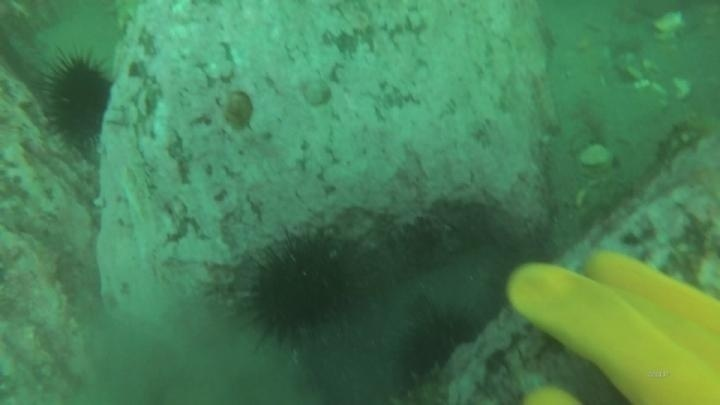echinus: (239, 227, 366, 346), (42, 51, 115, 150), (395, 304, 483, 383)
holothurian: (652, 114, 713, 171), (528, 71, 564, 137)
